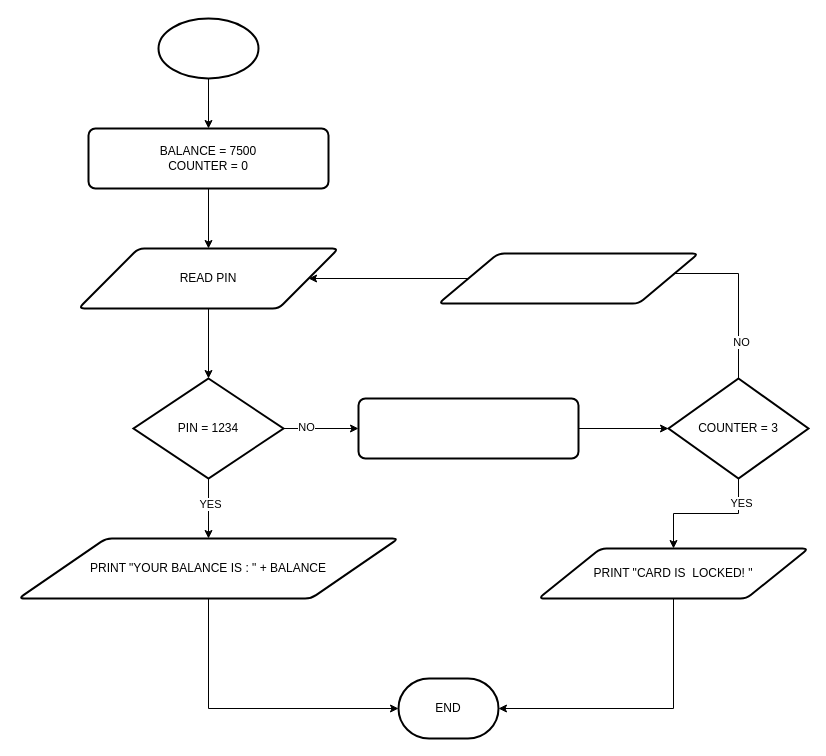
Some shapes in this 826 by 756 pixel diagram are drawn without their labels. Here are the shapes that lost their labels. From the top down, the box of each, then its label:
(157, 17, 259, 79): START
(437, 252, 699, 304): PRINT " WRONG PIN "
(357, 397, 579, 459): COUNTER = COUNTER + 1
